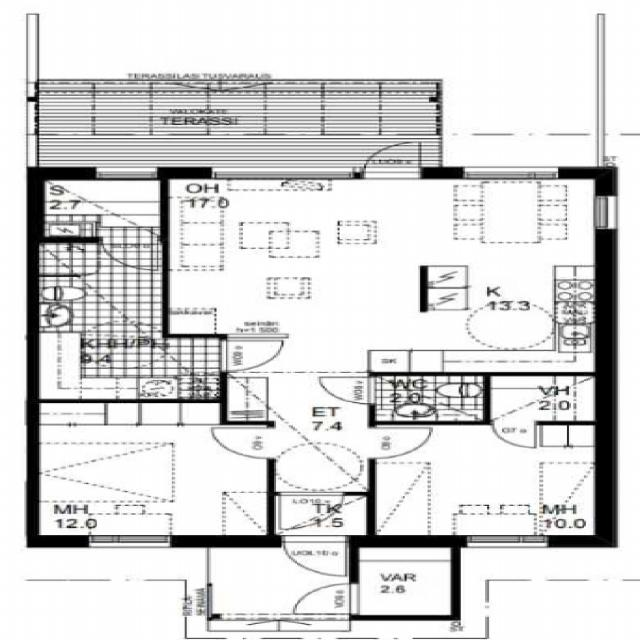door: (283, 536, 345, 582), (364, 136, 421, 180), (279, 492, 342, 531), (367, 428, 432, 459), (220, 341, 284, 372), (102, 237, 157, 273), (294, 585, 360, 614), (212, 429, 274, 458), (317, 378, 376, 404), (492, 422, 534, 449)
